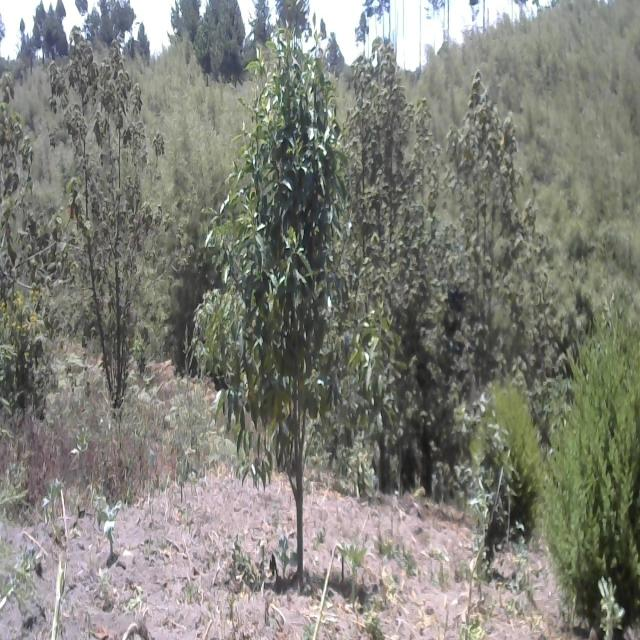Hass Avocado: (209, 39, 390, 573)
cedrus: (550, 314, 640, 606), (479, 372, 546, 518), (194, 0, 242, 83), (247, 0, 274, 55)
other: (49, 35, 153, 380), (344, 42, 446, 334), (451, 72, 543, 382), (0, 47, 46, 399)
